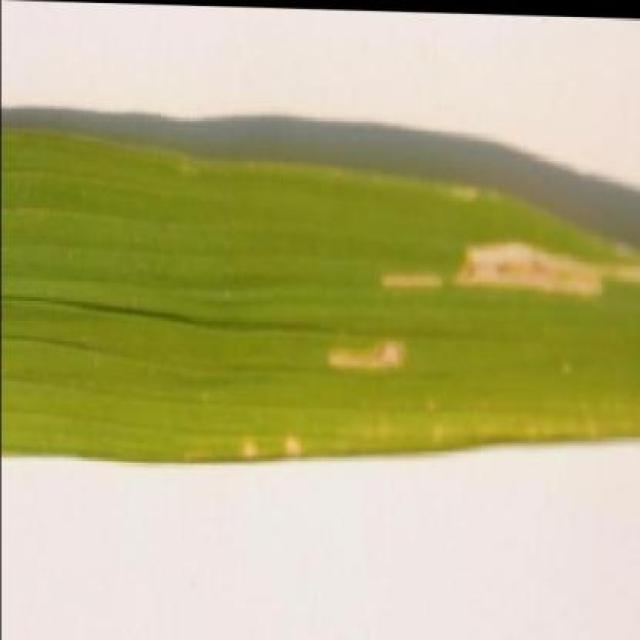Brown_Spot: (0, 124, 640, 479)
